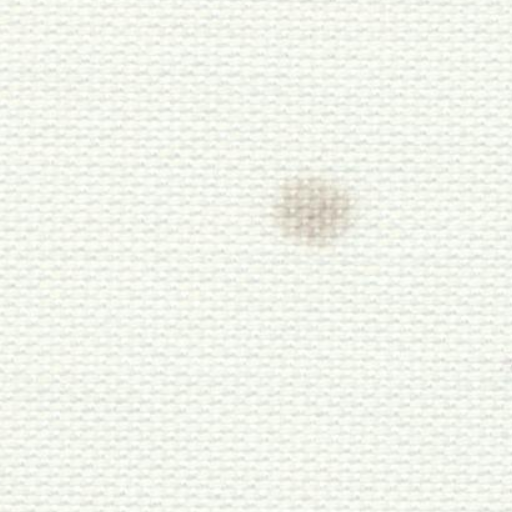WuZi: (266, 147, 374, 266)
